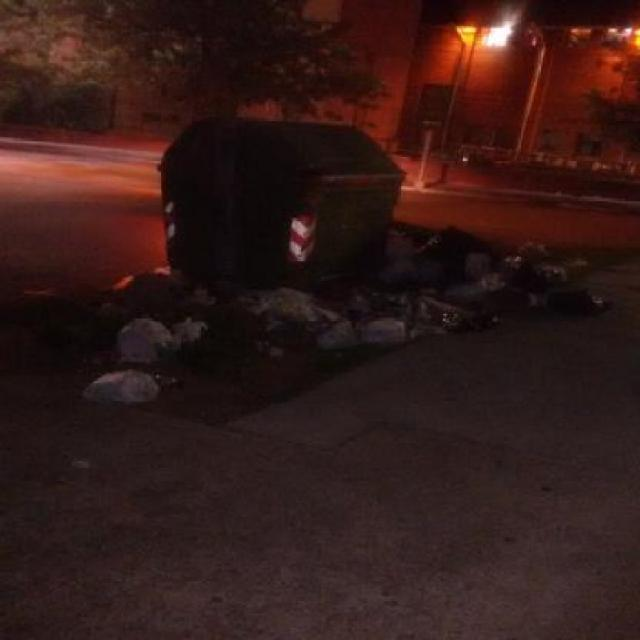garbage: (0, 268, 188, 396), (386, 219, 612, 322), (179, 278, 490, 350)
